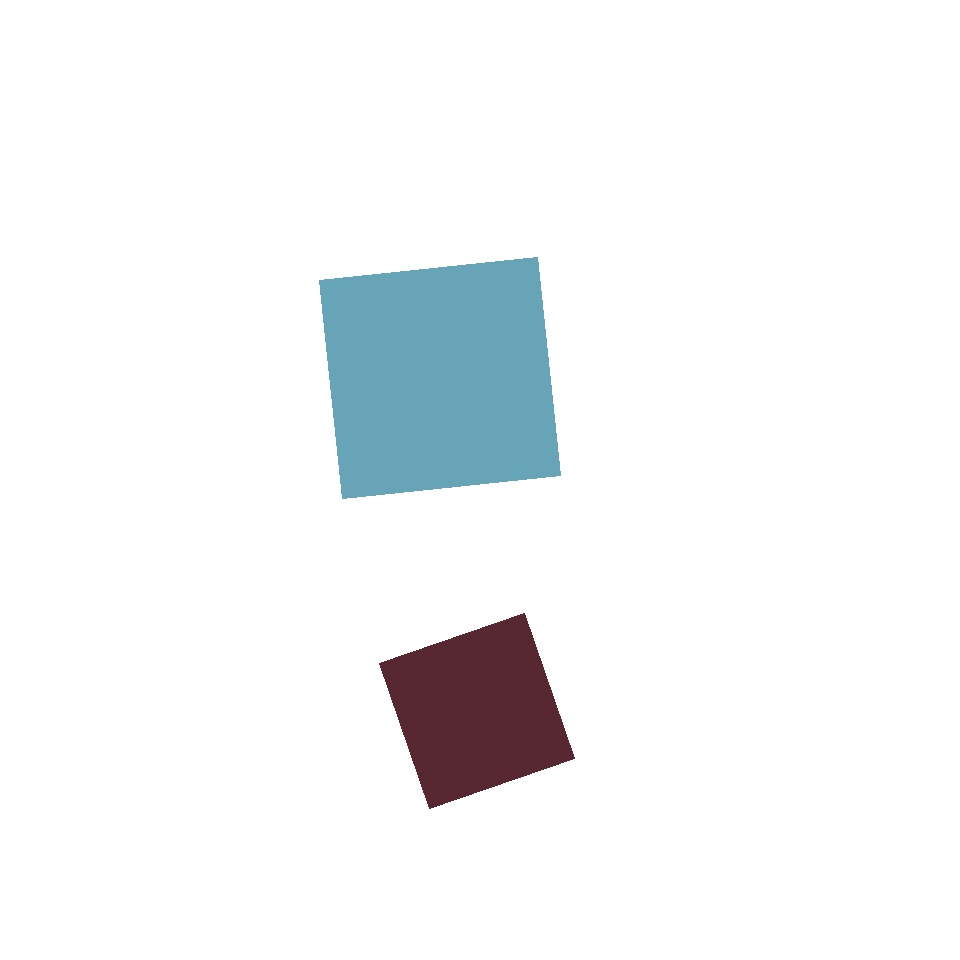circle: (79, 559, 346, 853), (448, 257, 582, 399)
square: (542, 115, 922, 494), (460, 58, 790, 386), (319, 257, 560, 498), (484, 103, 712, 332), (380, 614, 574, 808)
